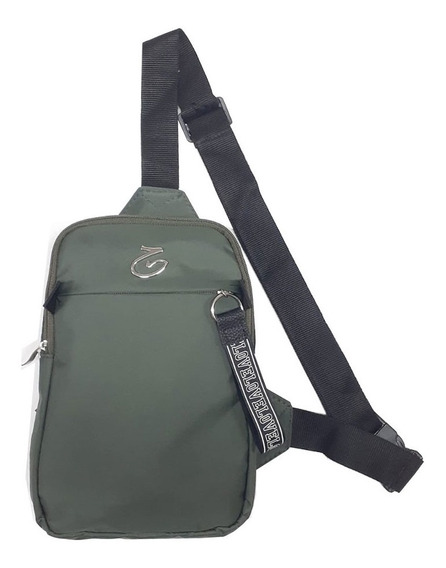cartera: (21, 23, 424, 544)
